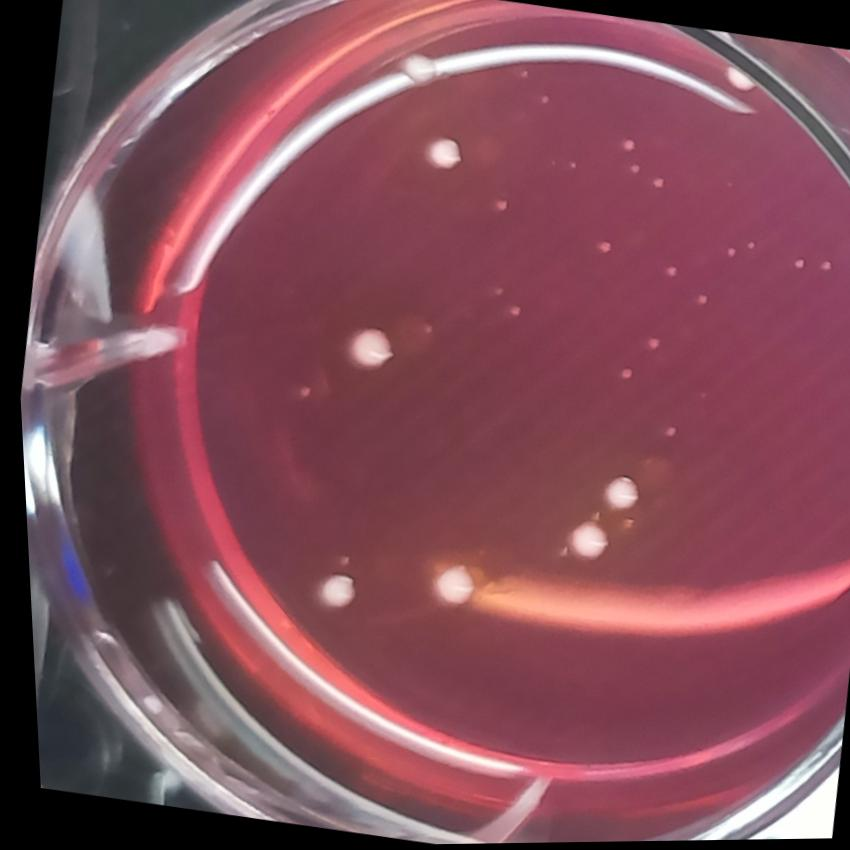staphylo-: (334, 319, 395, 384), (416, 555, 477, 612), (555, 510, 610, 568), (413, 125, 468, 177), (302, 563, 355, 615), (592, 468, 643, 522)
